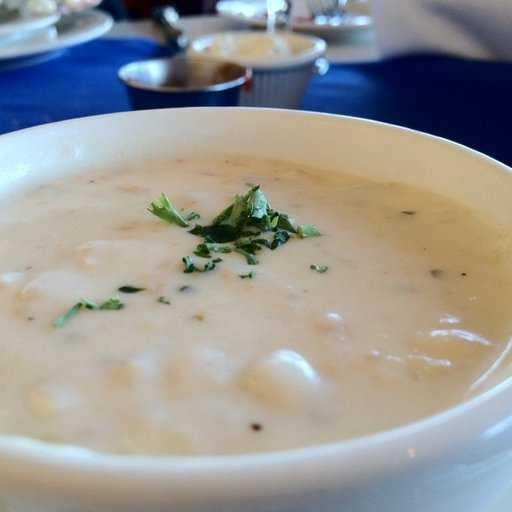soup: (1, 131, 512, 462)
